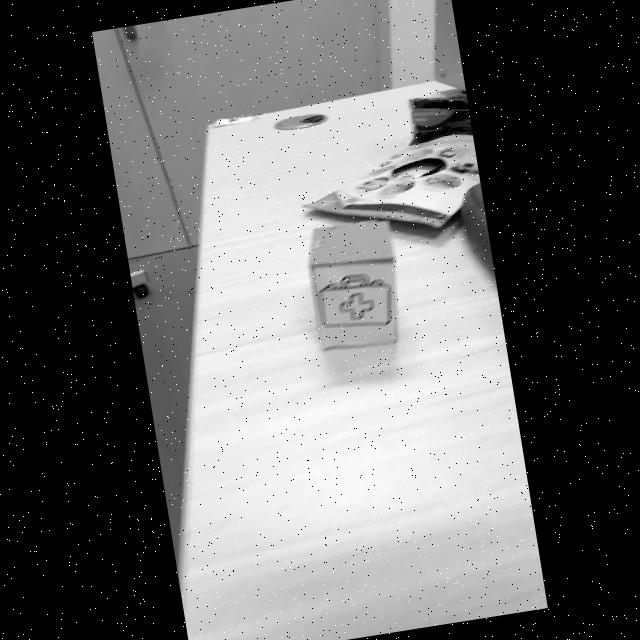Medkit: (319, 274, 392, 327)
